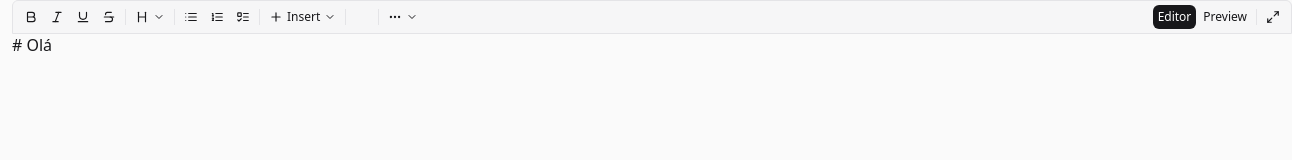
Test: MarkdownEditor › respeita o placement de cada plugin sobre a prop pluginsPlacement
Click the button named "More tools". click: click(403, 17)
box: top-left (383, 5), bottom-right (423, 29)
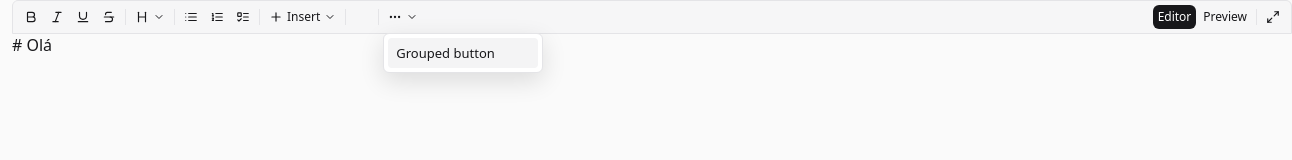
Expected: the menu item with class "mde-menu-item" is shown, top-left (388, 38), bottom-right (538, 68)
